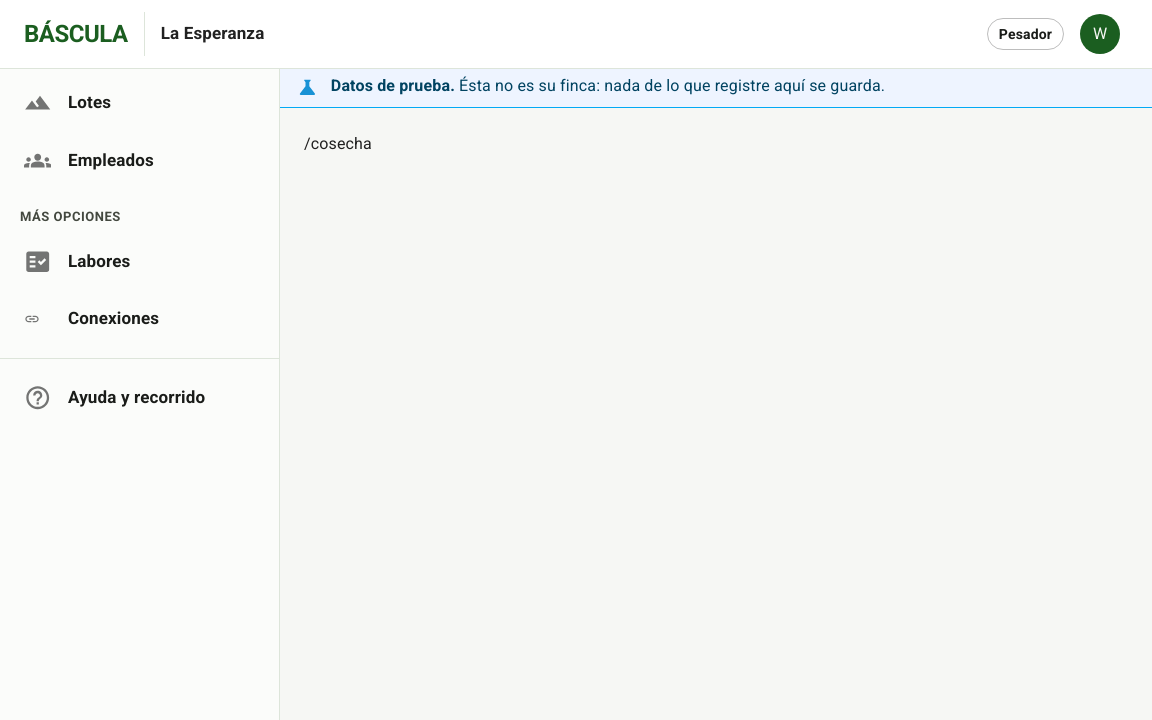
Test case: the account menu › sends a weigher to change it in Conexiones
The image size is (1152, 720).
What coordinates should you click on to do the following:
click the button named "Cuenta"
I would click on:
 (1100, 34)
Its box is left=1072, top=6, right=1128, bottom=62.
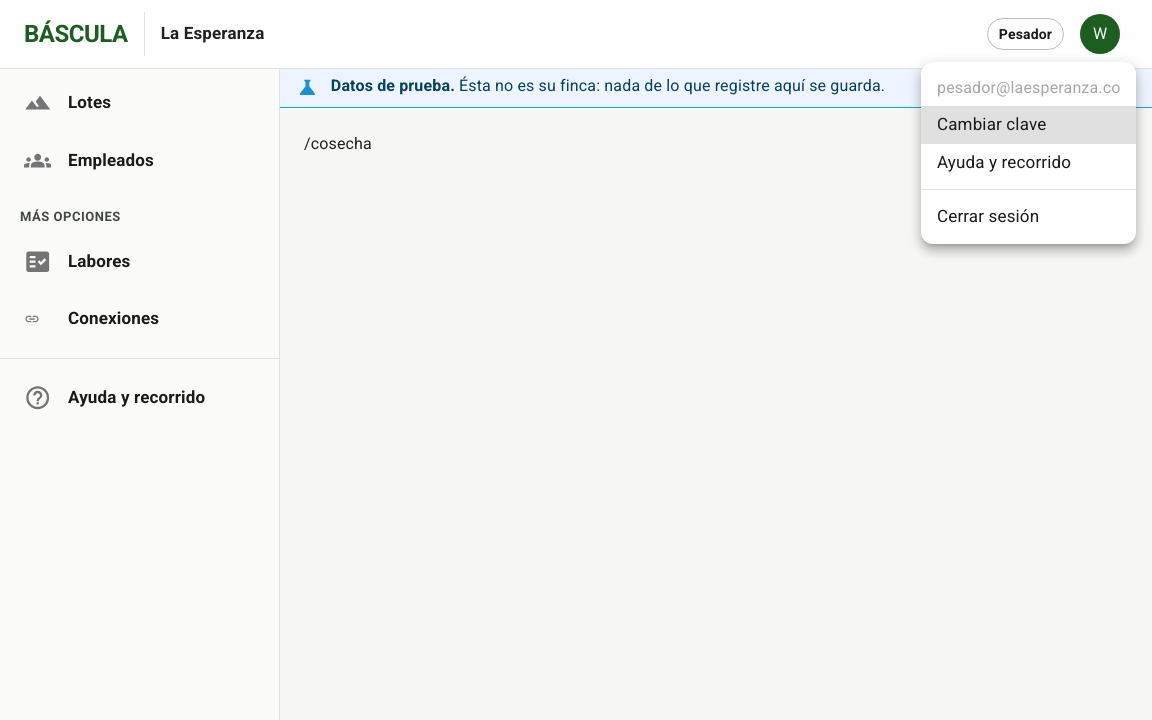
What coordinates should you click on to do the following:
click the menu item "Cambiar clave"
I would click on:
 (1029, 125)
Its box is left=921, top=106, right=1136, bottom=144.
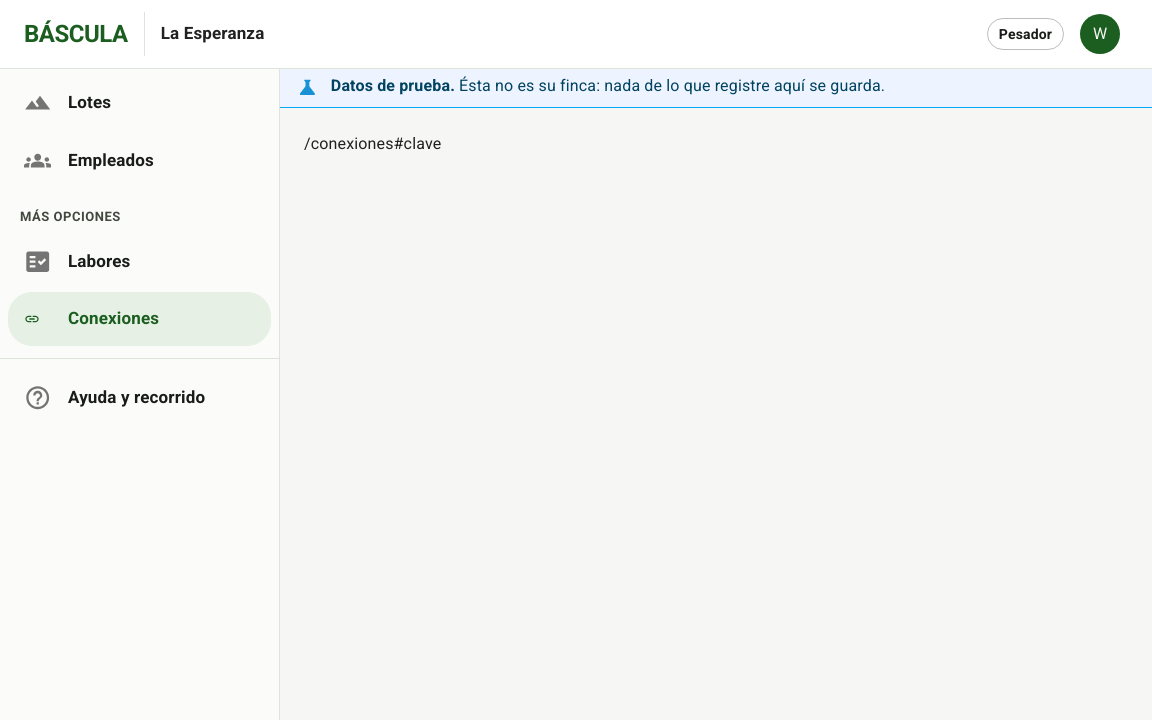
Result: the text with test id "where" reads "/conexiones#clave" at left=304, top=134, right=441, bottom=153
